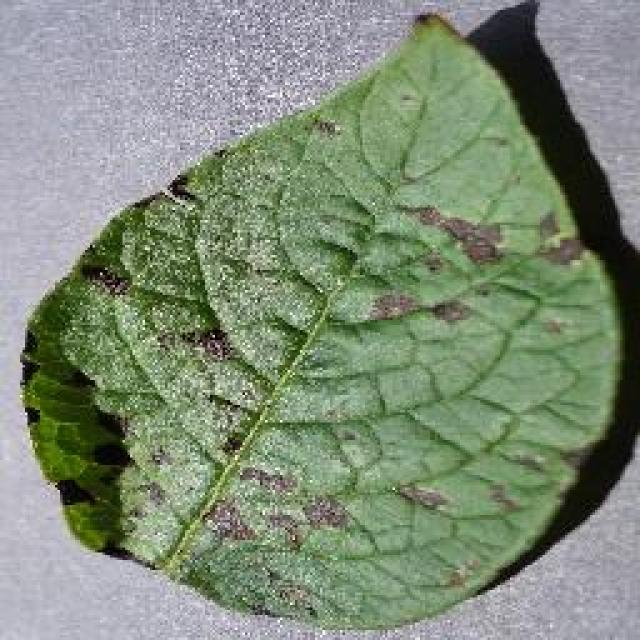early_blight: (15, 2, 635, 632)
